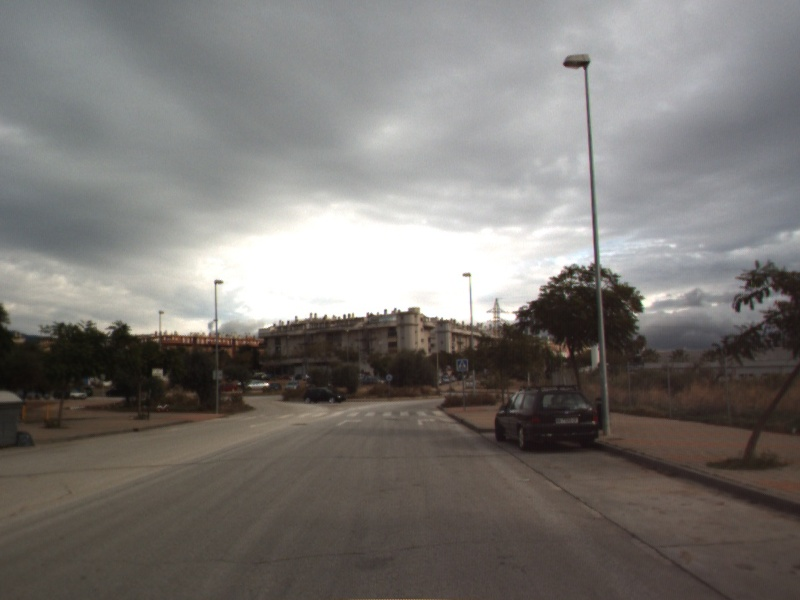RIGHT: (334, 417, 365, 428), (415, 416, 438, 428)
